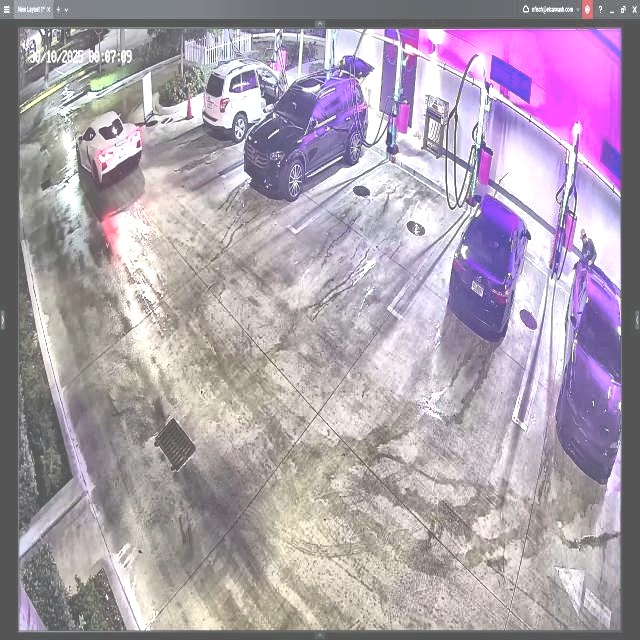Car: (248, 56, 372, 201), (448, 192, 531, 340), (75, 109, 142, 180)
